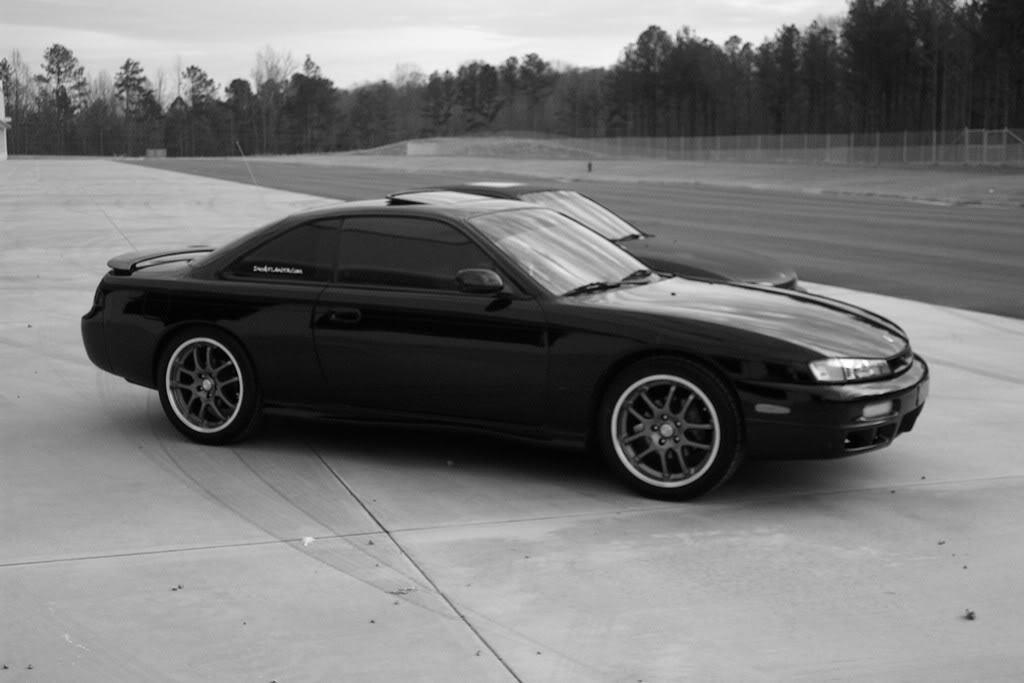car: (78, 185, 933, 505)
